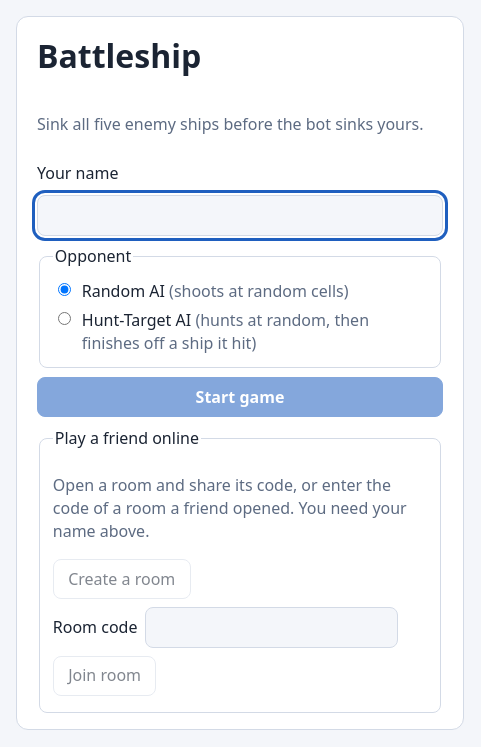
Test case: App with a friend online › hides the connection notice while connected
The image size is (481, 747).
Step 1. Type "Ann" into the field labelled "Your name" → [240, 215], box [37, 194, 443, 236]
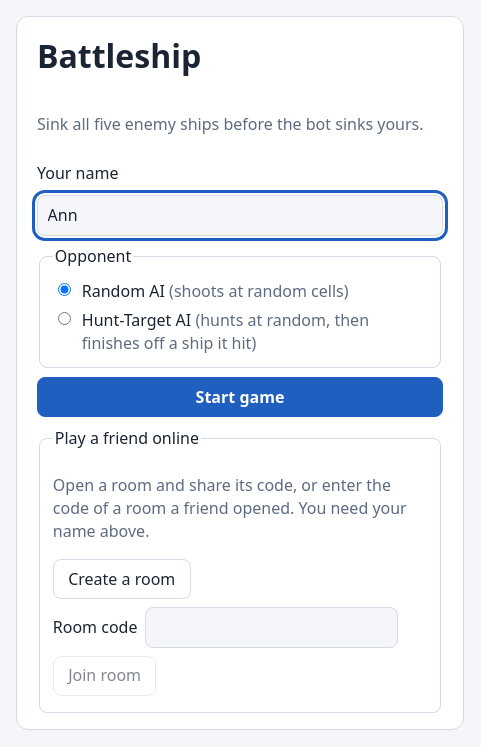
Step 2. Click the button "Create a room" → [122, 579], box [53, 559, 191, 599]
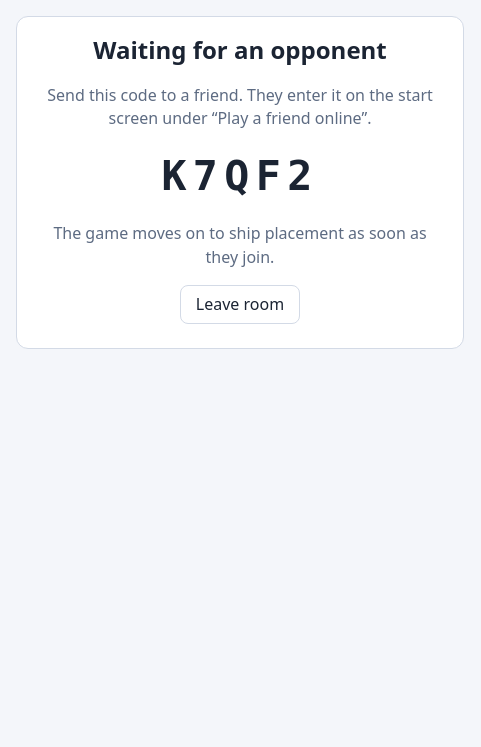
Expected: the heading "Waiting for an opponent" is shown, [93, 33, 387, 66]
